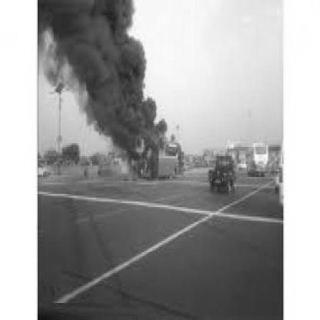Fire: (158, 125, 170, 158), (133, 133, 147, 157), (148, 144, 154, 160)
Smoke: (42, 0, 159, 136)
